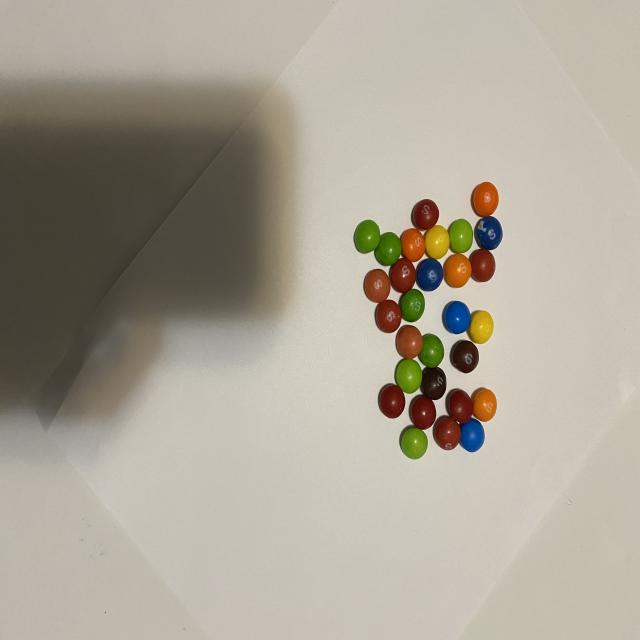smartie: (379, 384, 406, 419), (445, 253, 472, 287), (376, 299, 403, 333), (354, 219, 381, 253), (474, 181, 500, 216), (390, 257, 416, 292), (397, 359, 423, 394), (477, 215, 503, 250), (375, 232, 402, 265), (417, 258, 444, 291), (453, 340, 480, 373), (365, 268, 391, 302), (397, 325, 423, 359), (445, 300, 471, 334), (425, 224, 450, 259), (412, 396, 437, 430), (449, 389, 474, 423), (470, 310, 495, 344), (436, 418, 462, 450), (471, 248, 496, 281), (461, 419, 486, 452), (422, 367, 447, 400), (420, 333, 444, 367), (450, 218, 474, 252), (413, 199, 440, 229), (402, 429, 428, 460), (402, 228, 426, 261), (474, 389, 498, 422), (402, 289, 425, 322)
